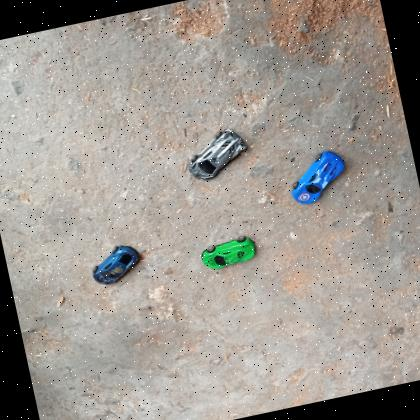Car: (284, 146, 352, 208), (182, 125, 253, 183), (86, 239, 147, 289), (198, 233, 260, 274)
